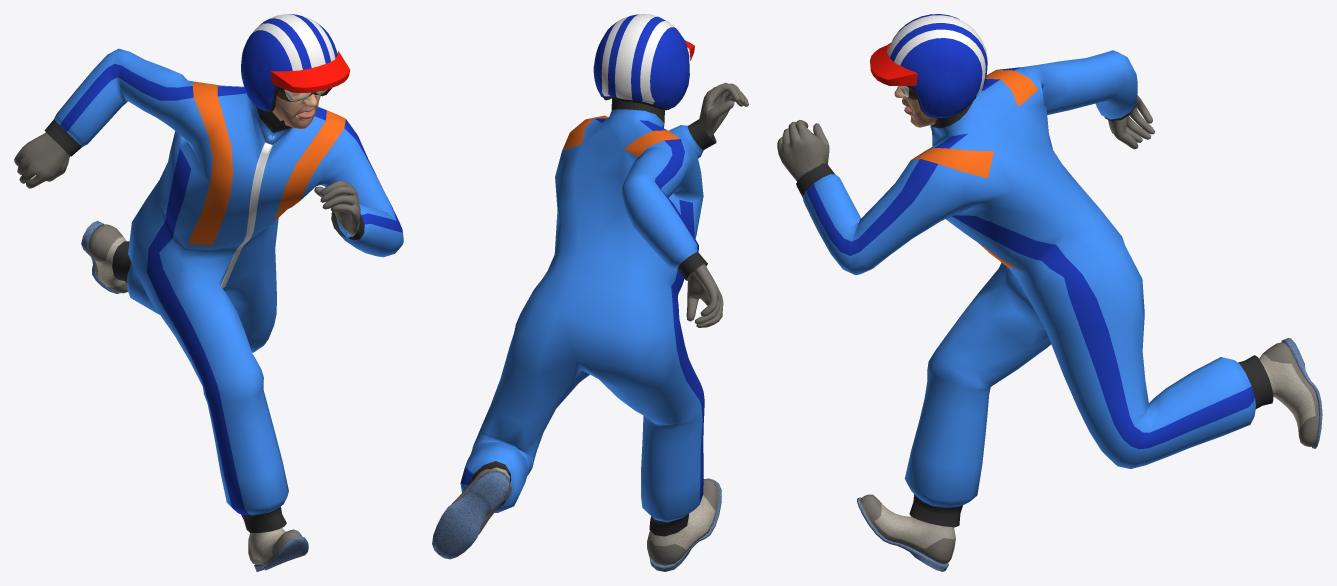
The model's file is oil-age-machine.fbx.
3 renders of one model, left to right at view 1: azimuth 30°, elevation 25°; view 2: azimuth 150°, elevation 25°; view 3: azimuth 270°, elevation 25°, orthographic. The views are drawn at different scales.
Visible parts, largest first — view 1: Group4, Group1, Group3; view 2: Group4, Group1; view 3: Group4, Group1.
Boxes of the visible parts, bbox=[...] form: Group4: bbox=[14, 48, 403, 571]; Group1: bbox=[241, 14, 350, 111]; Group3: bbox=[272, 91, 321, 128]; Group4: bbox=[432, 82, 748, 571]; Group1: bbox=[593, 14, 694, 110]; Group4: bbox=[777, 50, 1322, 571]; Group1: bbox=[870, 14, 987, 118].
Size of the model in its own units: 41.56 by 87.85 by 77.15.
